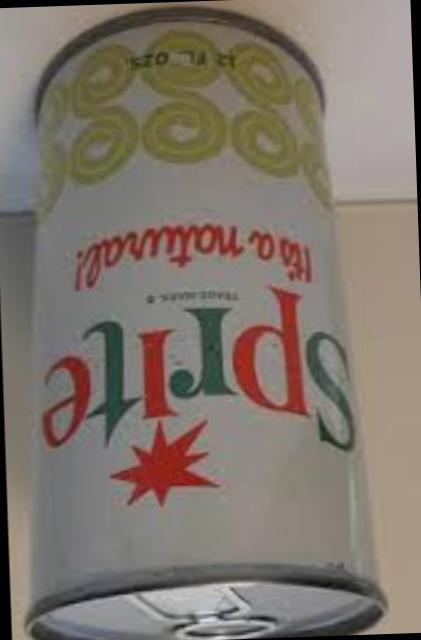metal: (30, 15, 386, 640)
